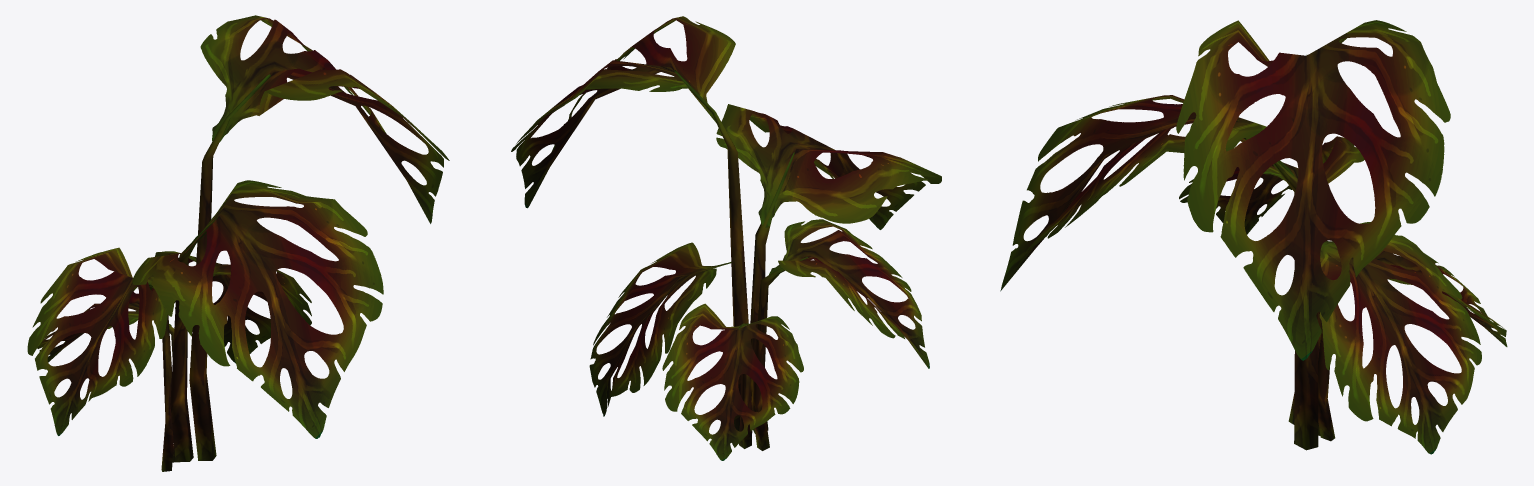
Rendered from vegetation-foliage02.glb.
The picture shows the model from 3 angles, left to right: view 1: azimuth 30°, elevation 25°; view 2: azimuth 150°, elevation 25°; view 3: azimuth 270°, elevation 25°; orthographic projection. The views are drawn at different scales.
Size of the model in its own units: 1.12 by 1.03 by 1.07.
1 material, 1 textured.
